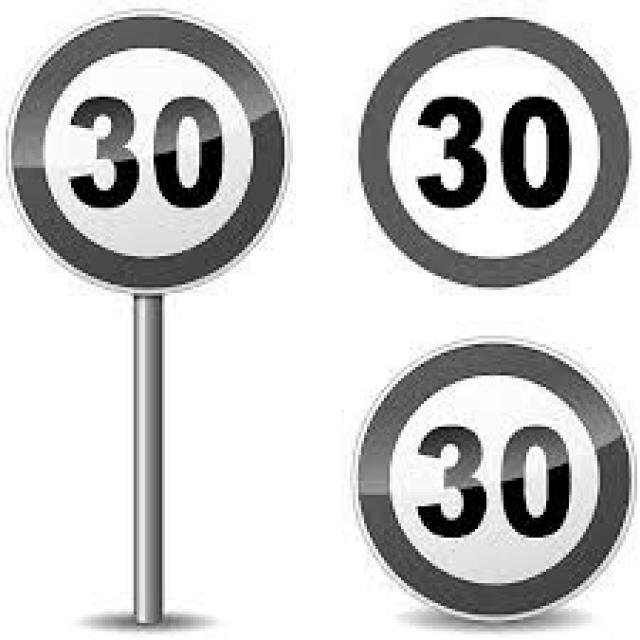speed_30: (340, 340, 635, 627), (10, 12, 291, 300), (350, 14, 631, 290)
